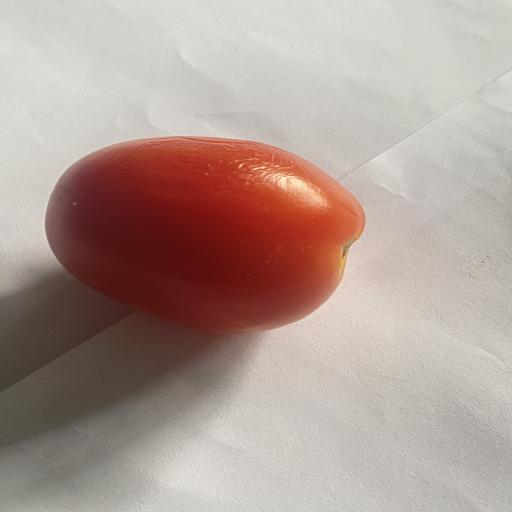overipe: (46, 137, 365, 332)
